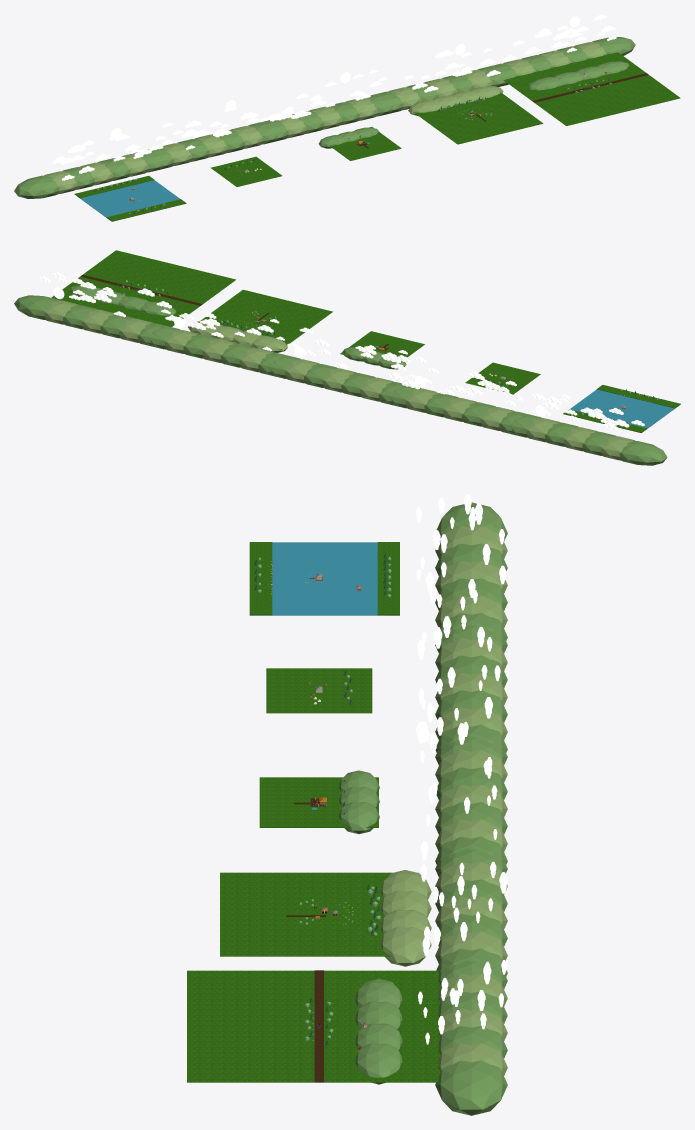
File: napoleon.glb
The picture shows the model from 3 angles, top to bottom: view 1: azimuth 30°, elevation 25°; view 2: azimuth 150°, elevation 25°; view 3: azimuth 270°, elevation 25°; orthographic projection. The views are drawn at different scales.
Parts seen in each view (by area): view 1: Langit__Hill_Far, L5_Kereta__Meadow, Langit__Hill_Far2, Langit__Cloud, L4_Lapangan__Meadow, L1_Rakit__Water, L2_Tenda__Meadow, L5_Kereta__Hill_Far, L4_Lapangan__Hill_Far2, L3_Peternakan__Meadow, L1_Rakit__Meadow, L3_Peternakan__Hill_Far (+1 smaller); view 2: Langit__Hill_Far, Langit__Hill_Far2, L5_Kereta__Meadow, Langit__Cloud, L4_Lapangan__Meadow, L1_Rakit__Water, L4_Lapangan__Hill_Far2, L2_Tenda__Meadow, L3_Peternakan__Meadow, L5_Kereta__Hill_Far, L1_Rakit__Meadow, L3_Peternakan__Hill_Far (+1 smaller); view 3: L5_Kereta__Meadow, Langit__Hill_Far, Langit__Hill_Far2, L4_Lapangan__Meadow, L1_Rakit__Water, Langit__Cloud, L2_Tenda__Meadow, L3_Peternakan__Meadow, L5_Kereta__Hill_Far, L4_Lapangan__Hill_Far2, L1_Rakit__Meadow, L3_Peternakan__Hill_Far (+1 smaller).
Boxes of the visible parts, x1,y1,x2,y2 form: Langit__Hill_Far: [14, 37, 635, 198]; L5_Kereta__Meadow: [503, 52, 680, 125]; Langit__Hill_Far2: [45, 41, 606, 193]; Langit__Cloud: [52, 14, 616, 180]; L4_Lapangan__Meadow: [408, 92, 543, 144]; L1_Rakit__Water: [78, 180, 180, 220]; L2_Tenda__Meadow: [210, 156, 282, 186]; L5_Kereta__Hill_Far: [528, 61, 629, 90]; L4_Lapangan__Hill_Far2: [408, 86, 503, 115]; L3_Peternakan__Meadow: [321, 127, 401, 160]; L1_Rakit__Meadow: [74, 176, 186, 221]; L3_Peternakan__Hill_Far: [318, 127, 379, 148]; Langit__Hill_Far: [14, 295, 667, 465]; Langit__Hill_Far2: [44, 300, 635, 460]; L5_Kereta__Meadow: [51, 250, 235, 326]; Langit__Cloud: [37, 272, 644, 429]; L4_Lapangan__Meadow: [200, 289, 332, 349]; L1_Rakit__Water: [570, 389, 674, 428]; L4_Lapangan__Hill_Far2: [188, 321, 287, 352]; L2_Tenda__Meadow: [465, 362, 540, 394]; L3_Peternakan__Meadow: [340, 331, 424, 366]; L5_Kereta__Hill_Far: [69, 285, 175, 315]; L1_Rakit__Meadow: [563, 385, 680, 432]; L3_Peternakan__Hill_Far: [342, 347, 406, 369]; L5_Kereta__Meadow: [187, 970, 440, 1082]; Langit__Hill_Far: [435, 502, 507, 1115]; Langit__Hill_Far2: [435, 526, 507, 1075]; L4_Lapangan__Meadow: [220, 872, 418, 956]; L1_Rakit__Water: [253, 542, 384, 615]; Langit__Cloud: [416, 494, 507, 1044]; L2_Tenda__Meadow: [266, 668, 372, 713]; L3_Peternakan__Meadow: [259, 777, 378, 827]; L5_Kereta__Hill_Far: [355, 978, 402, 1084]; L4_Lapangan__Hill_Far2: [380, 870, 431, 966]; L1_Rakit__Meadow: [249, 542, 399, 615]; L3_Peternakan__Hill_Far: [339, 770, 379, 833].
Bounding box in the file's own units: 2150 × 139 × 485.
62 materials, 12 textured.
